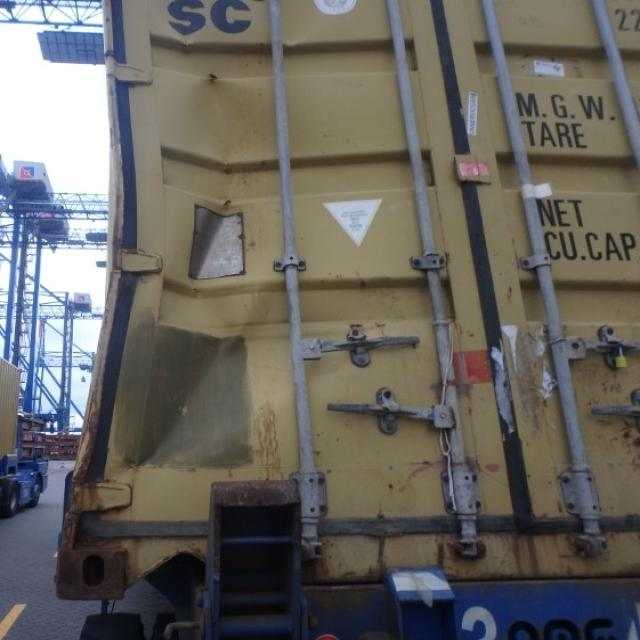dent: (319, 53, 505, 440), (131, 1, 275, 498), (55, 1, 162, 597), (412, 279, 500, 561)
